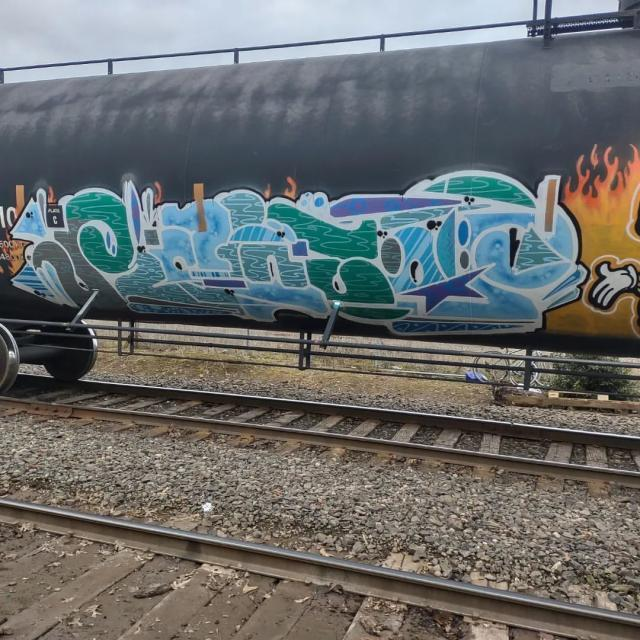nonspitting: (0, 138, 640, 340)
